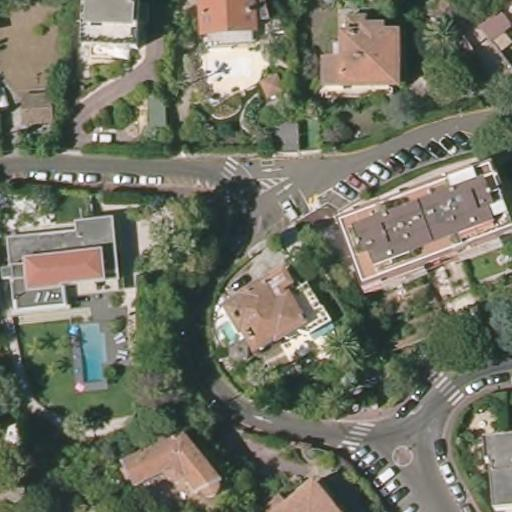pool: (72, 321, 112, 384), (214, 319, 242, 345)
